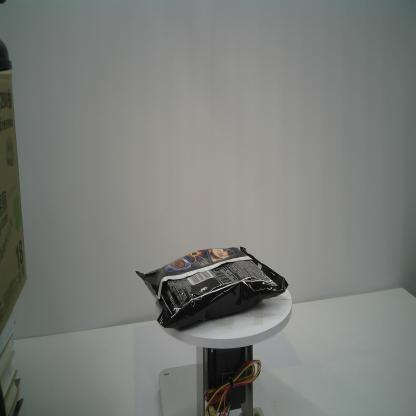Instant Noodles: (133, 245, 291, 335)
